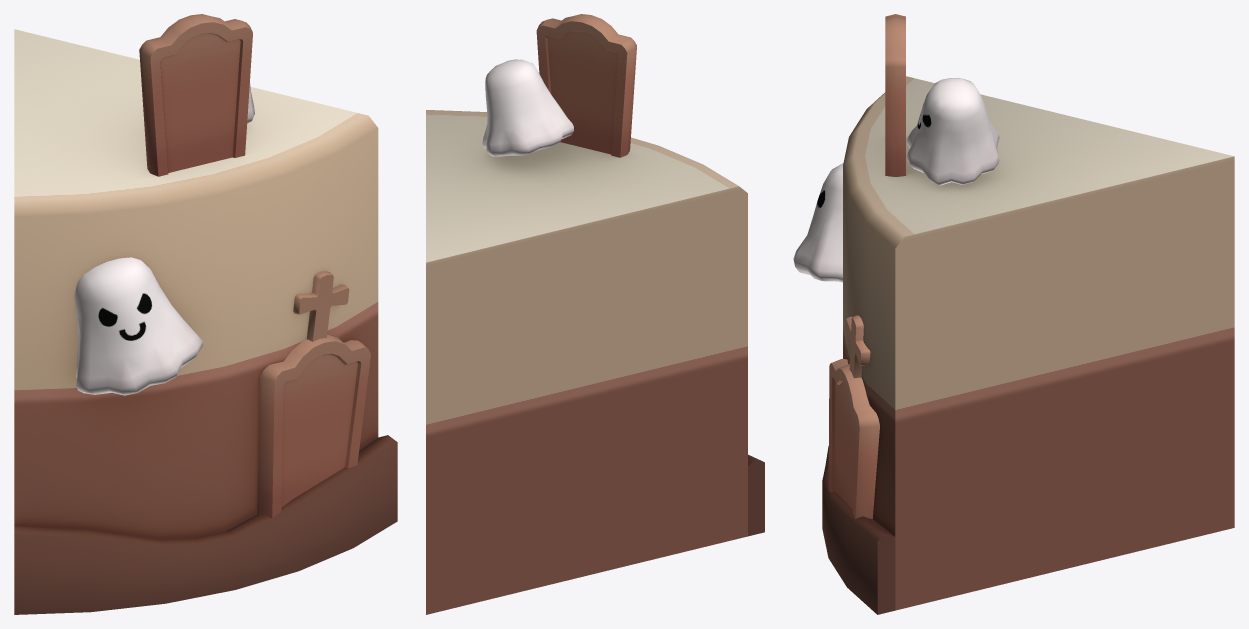
The model's file is cake_66.FBX.
The picture shows the model from 3 angles, left to right: view 1: azimuth 30°, elevation 25°; view 2: azimuth 150°, elevation 25°; view 3: azimuth 270°, elevation 25°; orthographic projection. The views are drawn at different scales.
Visible parts, largest first — view 1: cake_66; view 2: cake_66; view 3: cake_66.
Boxes of the visible parts, box(x1,y1,x2,y2) form: cake_66: box(14, 14, 397, 614); cake_66: box(426, 14, 764, 614); cake_66: box(793, 14, 1234, 614).
Bounding box in the file's own units: 5.36 × 7.27 × 5.74.
